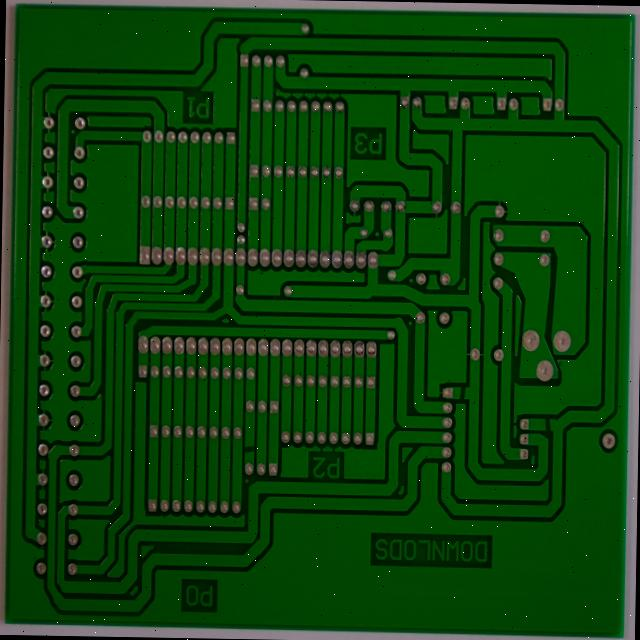open_circuit: (580, 466, 598, 489), (490, 430, 503, 451), (261, 496, 277, 511)
